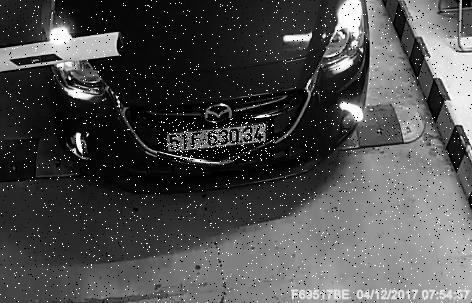License-plate: (159, 120, 277, 163)
